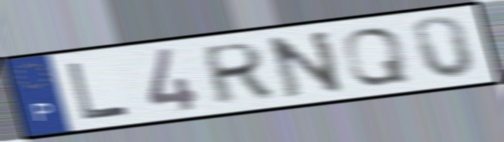0: (411, 14, 479, 82)
4: (143, 44, 203, 115)
L: (63, 60, 133, 121)
N: (263, 27, 349, 101)
Q: (340, 25, 414, 87)
R: (201, 39, 276, 108)
